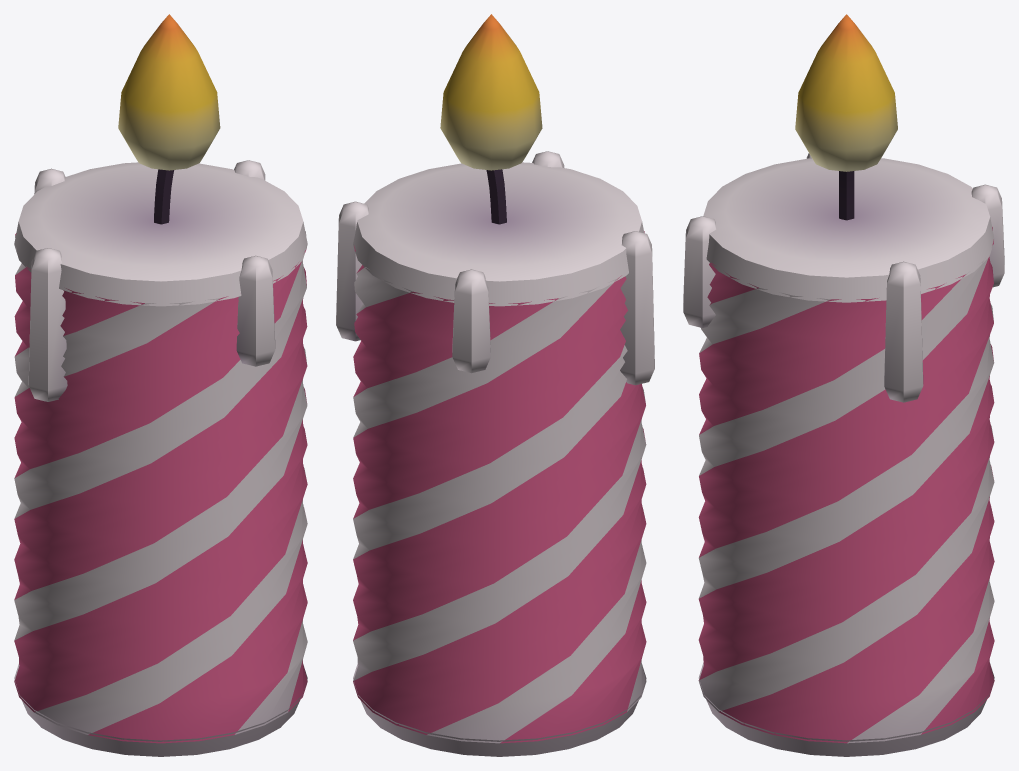
File: candle.glb
3 renders of one model, left to right at view 1: azimuth 30°, elevation 25°; view 2: azimuth 150°, elevation 25°; view 3: azimuth 270°, elevation 25°, orthographic.
Parts seen in each view (by area): view 1: body, flame; view 2: body, flame; view 3: body, flame.
Boxes of the visible parts, bbox=[...] form: body: bbox=[14, 160, 307, 756]; flame: bbox=[118, 14, 220, 170]; body: bbox=[336, 151, 654, 756]; flame: bbox=[440, 14, 542, 170]; body: bbox=[683, 153, 1004, 756]; flame: bbox=[795, 14, 897, 171].
Size of the model in its own units: 0.2018 by 0.472 by 0.1999.
